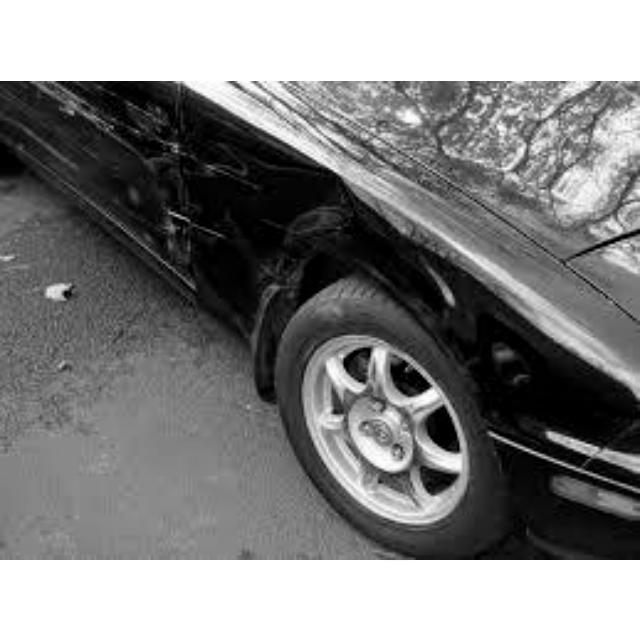fender-dent: (181, 112, 383, 302)
